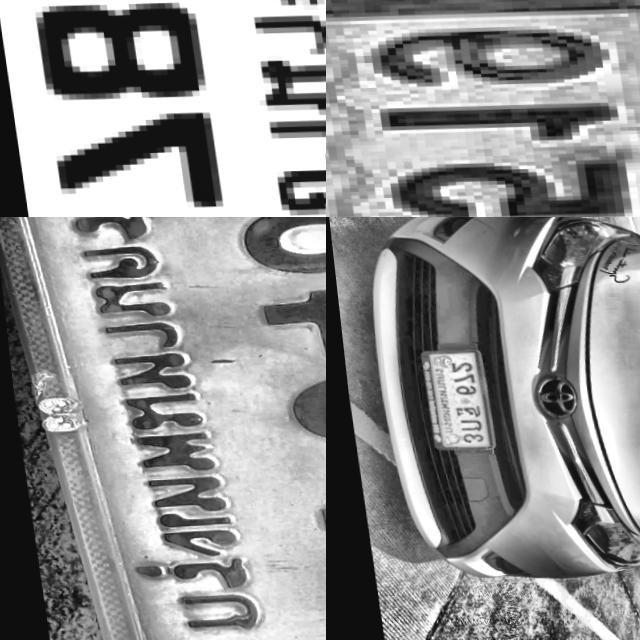license-plate: (0, 217, 326, 640), (0, 0, 326, 217), (326, 0, 640, 217), (408, 343, 490, 452)
